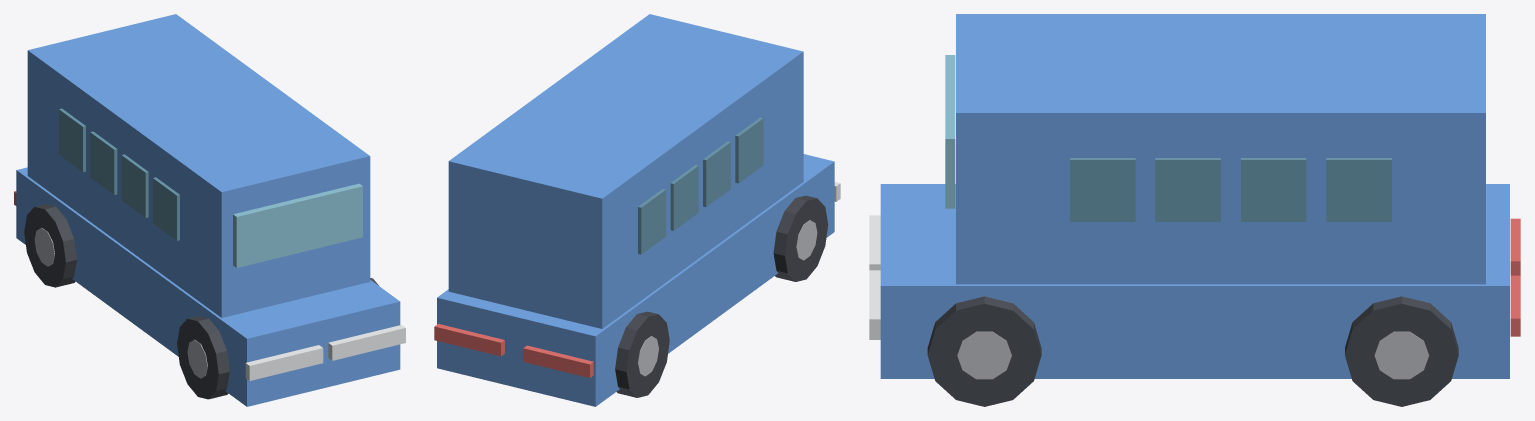
Rendered from traffic_city_bus_blue.glb.
The picture shows the model from 3 angles, left to right: view 1: azimuth 30°, elevation 25°; view 2: azimuth 150°, elevation 25°; view 3: azimuth 270°, elevation 25°; orthographic projection. The views are drawn at different scales.
Parts seen in each view (by area): view 1: bus_upper_1, bus_lower_0, bus_front_glass_2, wheel_FL_11, wheel_RL_15, headlight_L_19, headlight_R_20, windowL0.05_7, windowL-0.55_5, windowL0.65_9, windowL-1.15_3, rim_RL_16 (+1 smaller); view 2: bus_upper_1, bus_lower_0, wheel_RL_15, wheel_FL_11, windowL0.65_9, windowL-0.55_5, windowL-1.15_3, windowL0.05_7, taillight_R_22, taillight_L_21, rim_FL_12, rim_RL_16; view 3: bus_upper_1, bus_lower_0, wheel_FR_13, wheel_RR_17, windowR0.65_10, windowR0.05_8, windowR-0.55_6, windowR-1.15_4, rim_FR_14, rim_RR_18, bus_front_glass_2, headlight_R_20 (+3 smaller).
Part boxes in pixels (x1=…): bus_upper_1: x1=27, y1=14, x2=370, y2=317; bus_lower_0: x1=16, y1=167, x2=400, y2=406; bus_front_glass_2: x1=233, y1=183, x2=362, y2=267; wheel_FL_11: x1=177, y1=316, x2=229, y2=399; wheel_RL_15: x1=24, y1=204, x2=76, y2=287; headlight_L_19: x1=245, y1=345, x2=323, y2=380; headlight_R_20: x1=328, y1=325, x2=405, y2=360; windowL0.05_7: x1=121, y1=154, x2=148, y2=217; windowL-0.55_5: x1=90, y1=131, x2=117, y2=194; windowL0.65_9: x1=153, y1=177, x2=179, y2=240; windowL-1.15_3: x1=59, y1=108, x2=85, y2=171; rim_RL_16: x1=34, y1=227, x2=54, y2=266; bus_upper_1: x1=448, y1=14, x2=803, y2=328; bus_lower_0: x1=437, y1=154, x2=834, y2=406; wheel_RL_15: x1=615, y1=311, x2=669, y2=397; wheel_FL_11: x1=773, y1=195, x2=828, y2=281; windowL0.65_9: x1=735, y1=117, x2=763, y2=183; windowL-0.55_5: x1=670, y1=165, x2=698, y2=230; windowL-1.15_3: x1=638, y1=189, x2=666, y2=254; windowL0.05_7: x1=703, y1=141, x2=730, y2=206; taillight_R_22: x1=434, y1=324, x2=504, y2=356; taillight_L_21: x1=523, y1=345, x2=593, y2=377; rim_FL_12: x1=796, y1=220, x2=817, y2=260; rim_RL_16: x1=638, y1=336, x2=658, y2=376; bus_upper_1: x1=956, y1=14, x2=1485, y2=284; bus_lower_0: x1=880, y1=184, x2=1509, y2=378; wheel_FR_13: x1=927, y1=296, x2=1041, y2=406; wheel_RR_17: x1=1345, y1=296, x2=1458, y2=406; windowR0.65_10: x1=1070, y1=158, x2=1135, y2=221; windowR0.05_8: x1=1155, y1=158, x2=1220, y2=221; windowR-0.55_6: x1=1241, y1=158, x2=1306, y2=221; windowR-1.15_4: x1=1326, y1=158, x2=1391, y2=221; rim_FR_14: x1=957, y1=331, x2=1011, y2=379; rim_RR_18: x1=1374, y1=331, x2=1428, y2=379; bus_front_glass_2: x1=945, y1=55, x2=955, y2=208; headlight_R_20: x1=869, y1=270, x2=880, y2=339.
Bounding box in the file's own units: 1.95 × 2.21 × 4.58.
